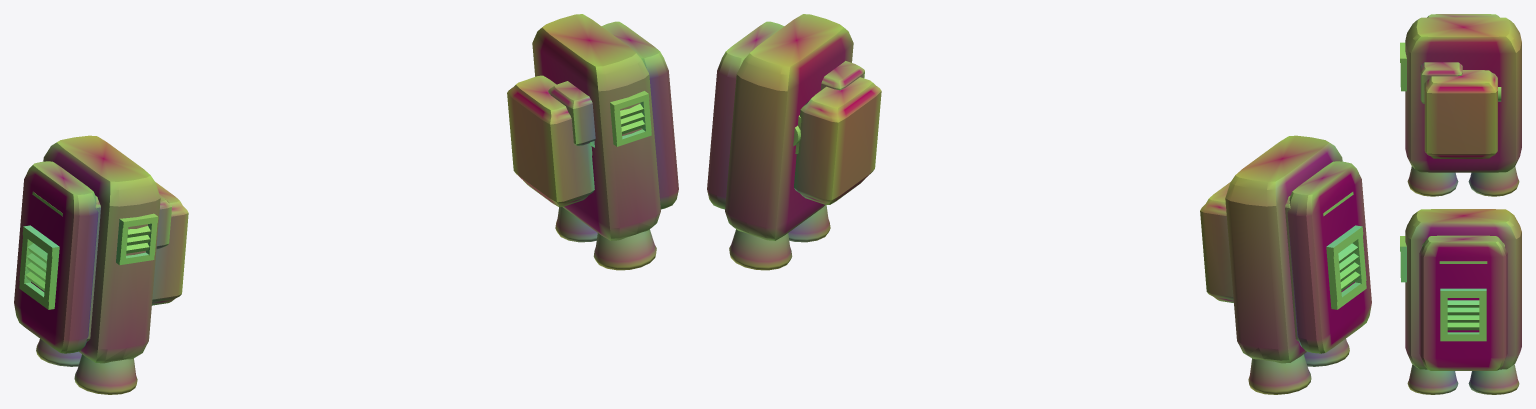
File: llm_gen_leg_thrusters_022_f2f889.glb
The picture shows the model from 3 angles, left to right: view 1: azimuth 30°, elevation 25°; view 2: azimuth 150°, elevation 25°; view 3: azimuth 270°, elevation 25°; orthographic projection. The views are drawn at different scales.
Visible parts, largest first — view 1: greave_pylon_0_cobalt_anodized_r, greave_pylon_0_cobalt_anodized_l, lateral_binder_shroud_2_adapter_dark_l, adapter_calf_clamp_r, lateral_binder_shroud_2_adapter_dark_r, adapter_calf_clamp_l, ankle_vector_bell_b_7_vernier_bell_vernier_l, ankle_vector_bell_b_7_vernier_bell_vernier_r, adapter_sub_binder_side_vent_3_dark_l, adapter_leg_knee_mount_dark_8_adapter_dark_r, adapter_sub_greave_intake_grille_5_dark_l, adapter_sub_greave_intake_grille_5_dark_r (+5 smaller); view 2: greave_pylon_0_cobalt_anodized_r, greave_pylon_0_cobalt_anodized_l, lateral_binder_shroud_2_adapter_dark_l, adapter_calf_clamp_r, lateral_binder_shroud_2_adapter_dark_r, adapter_calf_clamp_l, ankle_vector_bell_a_6_vernier_bell_vernier_l, ankle_vector_bell_a_6_vernier_bell_vernier_r, adapter_sub_binder_side_vent_3_dark_l, ankle_vector_bell_b_7_vernier_bell_vernier_r, adapter_leg_knee_mount_dark_8_adapter_dark_r, binder_side_vent_3_gold_l (+1 smaller); view 3: greave_pylon_0_cobalt_anodized_l, lateral_binder_shroud_2_adapter_dark_r, greave_pylon_0_cobalt_anodized_r, adapter_calf_clamp_l, adapter_sub_binder_side_vent_3_dark_r, ankle_vector_bell_a_6_vernier_bell_vernier_r, ankle_vector_bell_b_7_vernier_bell_vernier_r, ankle_vector_bell_a_6_vernier_bell_vernier_l, ankle_vector_bell_b_7_vernier_bell_vernier_l, binder_side_vent_3_gold_r, adapter_leg_knee_mount_dark_8_adapter_dark_l, adapter_sub_greave_intake_grille_5_dark_l (+3 smaller).
Part boxes in pixels (box(x1,y1,x2,y2)): greave_pylon_0_cobalt_anodized_r: box(532, 14, 660, 240); greave_pylon_0_cobalt_anodized_l: box(43, 135, 160, 363); lateral_binder_shroud_2_adapter_dark_l: box(14, 161, 98, 353); adapter_calf_clamp_r: box(507, 75, 594, 206); lateral_binder_shroud_2_adapter_dark_r: box(601, 21, 678, 209); adapter_calf_clamp_l: box(152, 182, 188, 305); ankle_vector_bell_b_7_vernier_bell_vernier_l: box(74, 354, 137, 394); ankle_vector_bell_b_7_vernier_bell_vernier_r: box(593, 229, 656, 270); adapter_sub_binder_side_vent_3_dark_l: box(19, 225, 59, 309); adapter_leg_knee_mount_dark_8_adapter_dark_r: box(548, 81, 595, 145); adapter_sub_greave_intake_grille_5_dark_l: box(116, 213, 158, 265); adapter_sub_greave_intake_grille_5_dark_r: box(610, 91, 651, 146); greave_pylon_0_cobalt_anodized_r: box(725, 14, 853, 240); greave_pylon_0_cobalt_anodized_l: box(1225, 135, 1342, 363); lateral_binder_shroud_2_adapter_dark_l: box(1287, 161, 1371, 353); adapter_calf_clamp_r: box(794, 77, 881, 204); lateral_binder_shroud_2_adapter_dark_r: box(707, 21, 784, 209); adapter_calf_clamp_l: box(1200, 182, 1233, 302); ankle_vector_bell_a_6_vernier_bell_vernier_l: box(1248, 354, 1311, 394); ankle_vector_bell_a_6_vernier_bell_vernier_r: box(729, 229, 792, 270); adapter_sub_binder_side_vent_3_dark_l: box(1326, 225, 1366, 309); ankle_vector_bell_b_7_vernier_bell_vernier_r: box(788, 204, 830, 242); adapter_leg_knee_mount_dark_8_adapter_dark_r: box(820, 61, 864, 90); binder_side_vent_3_gold_l: box(1338, 243, 1360, 291); greave_pylon_0_cobalt_anodized_l: box(1405, 17, 1521, 172); lateral_binder_shroud_2_adapter_dark_r: box(1419, 235, 1507, 370); greave_pylon_0_cobalt_anodized_r: box(1405, 209, 1521, 369); adapter_calf_clamp_l: box(1424, 70, 1497, 158); adapter_sub_binder_side_vent_3_dark_r: box(1440, 288, 1486, 341); ankle_vector_bell_a_6_vernier_bell_vernier_r: box(1468, 364, 1519, 394); ankle_vector_bell_b_7_vernier_bell_vernier_r: box(1407, 364, 1458, 394); ankle_vector_bell_a_6_vernier_bell_vernier_l: box(1468, 166, 1519, 196); ankle_vector_bell_b_7_vernier_bell_vernier_l: box(1407, 166, 1458, 196); binder_side_vent_3_gold_r: box(1447, 300, 1479, 330); adapter_leg_knee_mount_dark_8_adapter_dark_l: box(1420, 62, 1462, 103); adapter_sub_greave_intake_grille_5_dark_l: box(1400, 42, 1406, 91).
Size of the model in its own units: 86.2 by 27.72 by 18.25.
